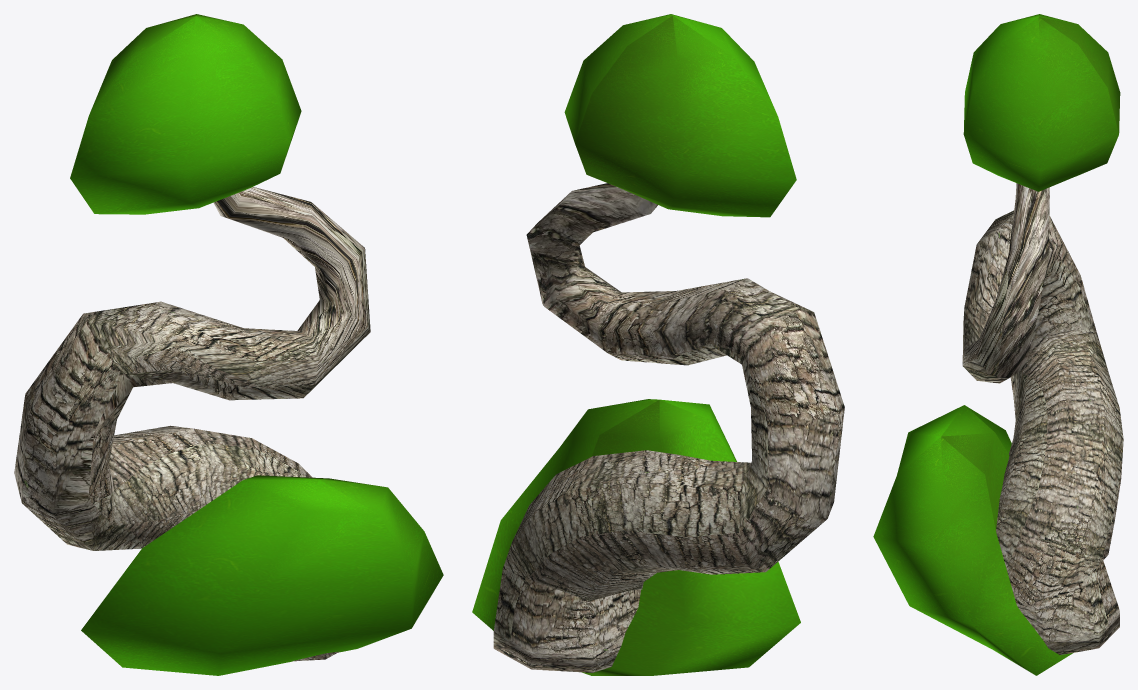
The picture shows the model from 3 angles, left to right: view 1: azimuth 30°, elevation 25°; view 2: azimuth 150°, elevation 25°; view 3: azimuth 270°, elevation 25°; orthographic projection. The views are drawn at different scales.
Parts seen in each view (by area): view 1: polySurface26; view 2: polySurface26; view 3: polySurface26.
Part boxes in pixels (<box>): polySurface26: <box>14,14,443,675</box>; polySurface26: <box>472,14,844,675</box>; polySurface26: <box>873,14,1123,675</box>.
Size of the model in its own units: 11661 by 19705 by 7573.
